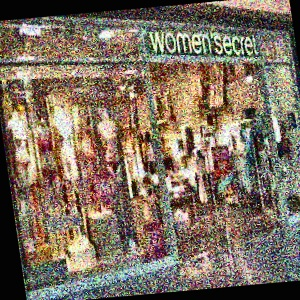women_secret: (136, 19, 295, 53)
